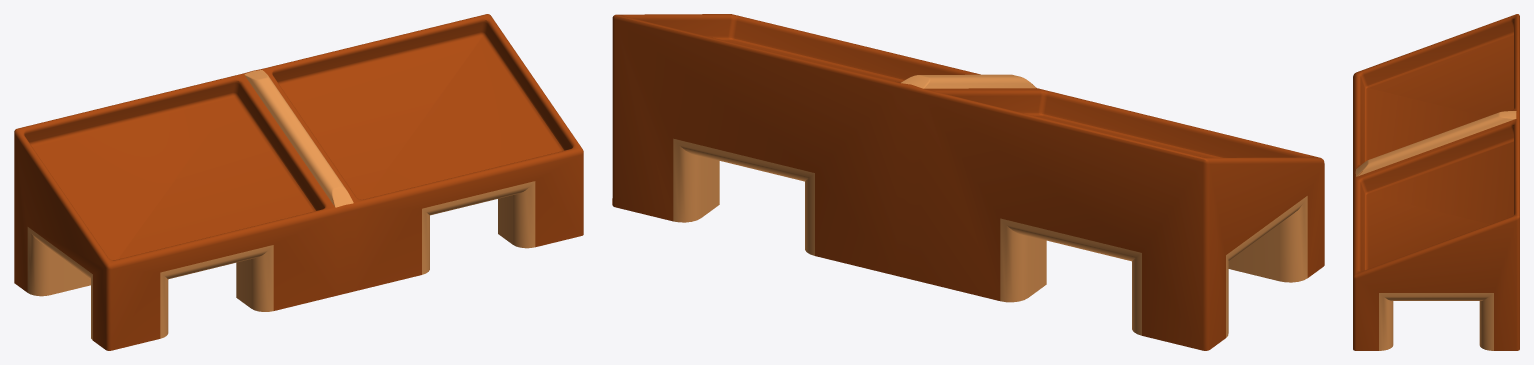
Rendered from balikTezgah.fbx.
3 views of the same model, side by side, from view 1: azimuth 30°, elevation 25°; view 2: azimuth 150°, elevation 25°; view 3: azimuth 270°, elevation 25° (orthographic). The views are drawn at different scales.
Parts seen in each view (by area): view 1: balikTezgah; view 2: balikTezgah; view 3: balikTezgah.
Boxes of the visible parts, x1,y1,x2,y2 form: balikTezgah: (14,14,583,350); balikTezgah: (612,14,1324,350); balikTezgah: (1353,14,1519,350).
Bounding box in the file's own units: 243 × 75.04 × 84.1.
